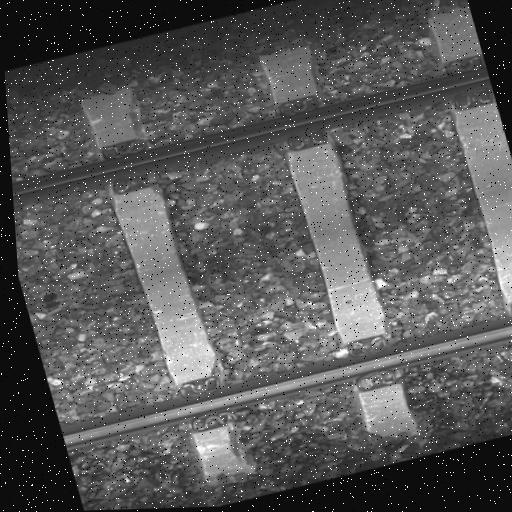sleeper: (261, 42, 420, 450), (88, 82, 242, 492), (422, 3, 512, 412)
